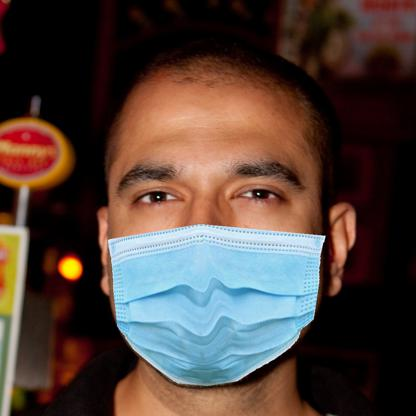mask: (109, 225, 323, 388)
